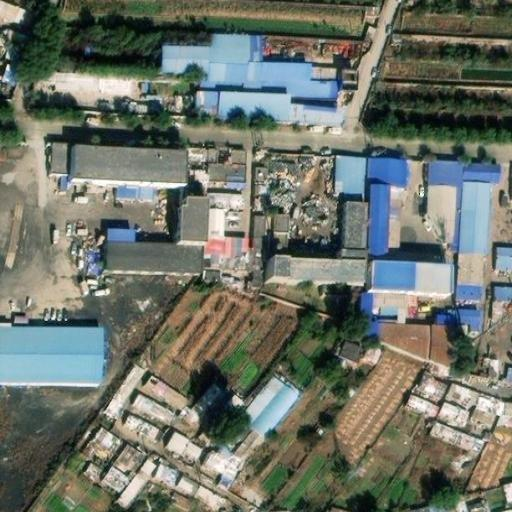building: (161, 34, 358, 122), (0, 328, 100, 383), (74, 142, 189, 182), (105, 229, 206, 274), (456, 160, 500, 254), (423, 158, 462, 251), (239, 375, 295, 437), (206, 194, 247, 271), (367, 261, 450, 296), (41, 64, 133, 92), (273, 257, 369, 283), (464, 391, 512, 439), (187, 148, 246, 185), (104, 366, 145, 419), (201, 442, 244, 489), (431, 420, 489, 453), (118, 459, 156, 509), (377, 323, 431, 356), (369, 182, 391, 262), (332, 331, 380, 367), (178, 188, 207, 244), (0, 29, 30, 82), (453, 252, 486, 298), (224, 420, 260, 459), (146, 376, 187, 410), (333, 158, 366, 200), (164, 431, 204, 465), (369, 295, 414, 325), (342, 200, 364, 261), (112, 444, 148, 480), (413, 371, 450, 405), (87, 428, 122, 463), (132, 395, 173, 424), (435, 306, 480, 332), (443, 381, 478, 412), (192, 382, 222, 416), (123, 415, 160, 442), (429, 322, 453, 363), (436, 402, 471, 430), (248, 209, 267, 260), (102, 465, 134, 495), (374, 155, 407, 184), (358, 294, 379, 339), (0, 1, 32, 30), (118, 178, 158, 201), (249, 161, 267, 209), (408, 395, 442, 419), (164, 486, 195, 512), (52, 141, 75, 175), (194, 485, 224, 509), (153, 463, 178, 487), (478, 356, 502, 380), (178, 404, 203, 427), (221, 393, 244, 417), (493, 242, 512, 270), (177, 475, 201, 497), (84, 462, 107, 483), (275, 212, 291, 233), (495, 284, 512, 301), (445, 500, 468, 512), (503, 482, 512, 504), (331, 506, 355, 512)
